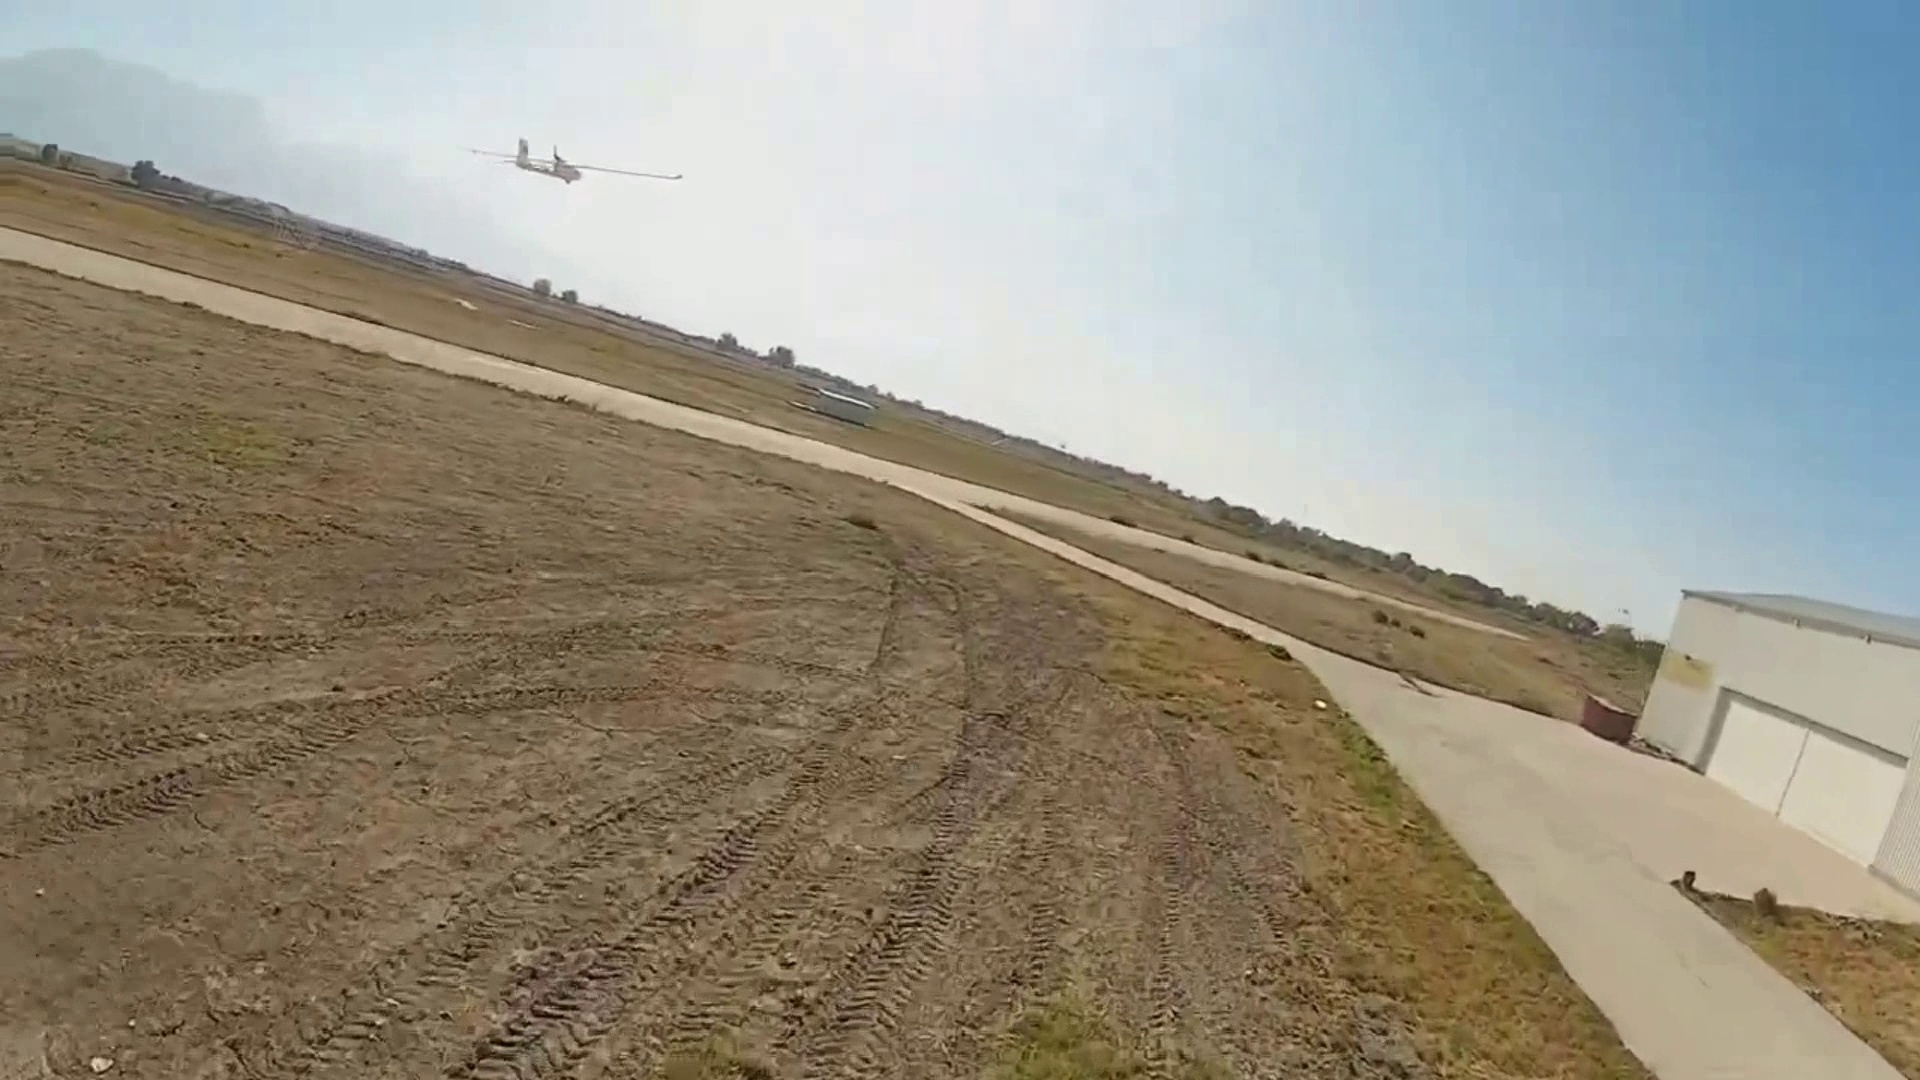airplane: (465, 135, 684, 187)
